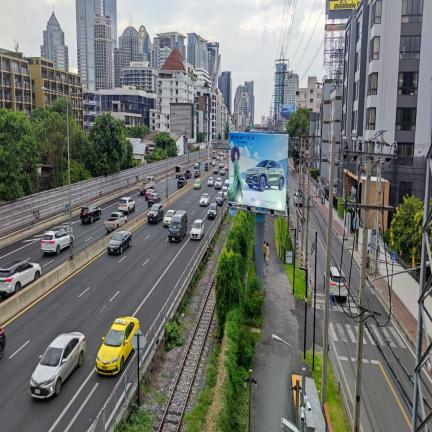car: (30, 332, 86, 398), (0, 261, 41, 296), (41, 229, 73, 254), (329, 267, 348, 301), (107, 230, 131, 254), (80, 205, 101, 223), (147, 204, 164, 223), (118, 197, 135, 214), (190, 220, 204, 239), (163, 209, 176, 226), (147, 192, 161, 206), (207, 203, 218, 218), (293, 191, 302, 206), (200, 193, 210, 206), (216, 191, 224, 205), (145, 188, 155, 199), (215, 178, 222, 188), (194, 179, 201, 188), (194, 170, 200, 177), (208, 177, 213, 185)
human: (263, 241, 267, 262), (266, 242, 269, 263)
pickup: (104, 212, 127, 232), (178, 176, 187, 188), (184, 169, 192, 178)
taxi: (96, 317, 139, 374)
truck: (137, 176, 155, 194), (175, 165, 183, 177)
van: (168, 211, 187, 241)
